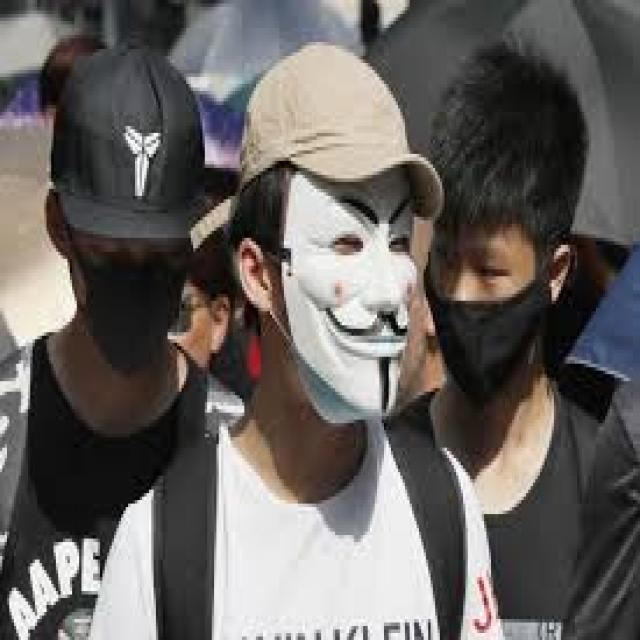cap: (235, 35, 447, 301), (39, 42, 230, 304)
